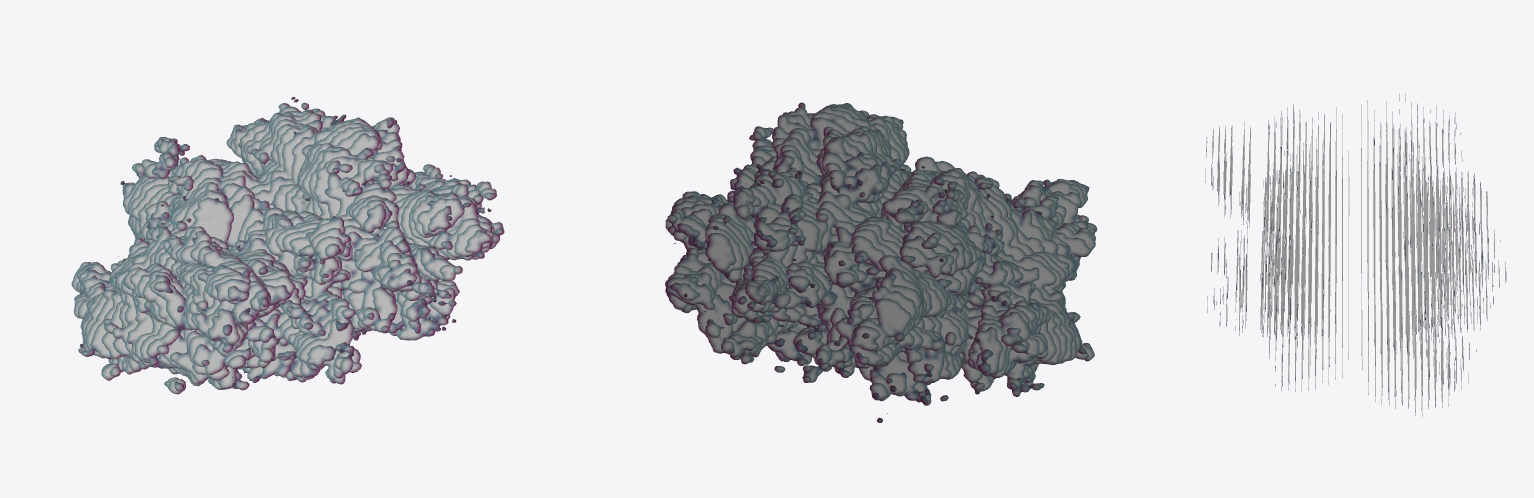
File: sickcloud.glb
The picture shows the model from 3 angles, left to right: view 1: azimuth 30°, elevation 25°; view 2: azimuth 150°, elevation 25°; view 3: azimuth 270°, elevation 25°; orthographic projection. The views are drawn at different scales.
Visible parts, largest first — view 1: cloud_new; view 2: cloud_new; view 3: cloud_new.
Part boxes in pixels (x1,y1,x2,y2): cloud_new: (71, 97, 504, 394); cloud_new: (665, 102, 1097, 422); cloud_new: (1205, 93, 1506, 416).
Size of the model in its own units: 2.4 by 1.48 by 1.68.
1 material, 1 textured.
